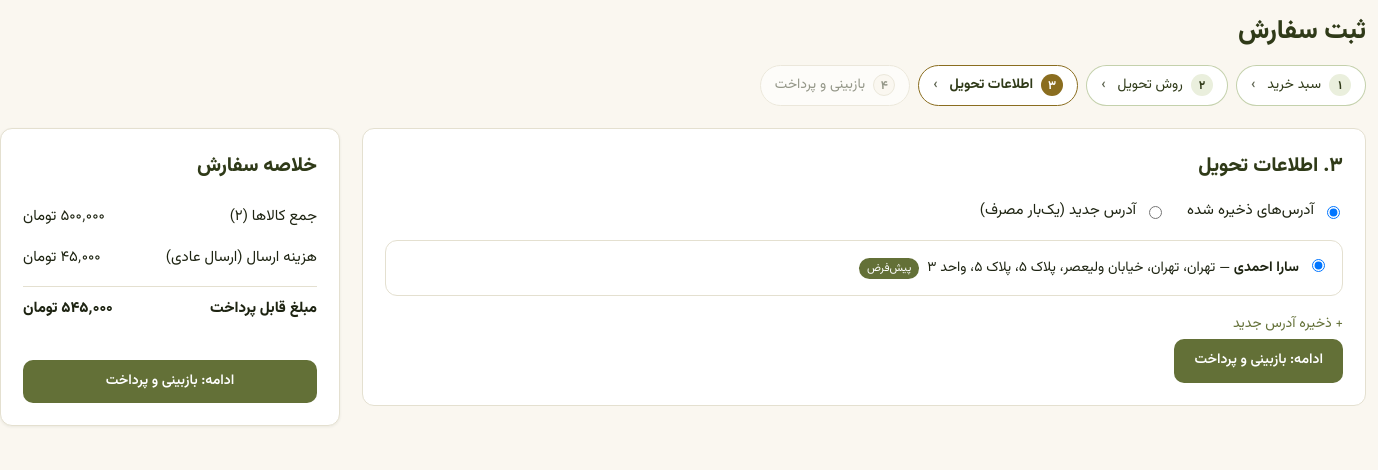
Test: mobile checkout steps (Task 2) › lets completed steps be clicked on the stepper to navigate back
Expected: the heading "۳. اطلاعات تحویل" is shown, [1198,150,1343,182]
Click the link "۲ روش تحویل". click: [1165, 85]
box: [1118,72,1213,99]
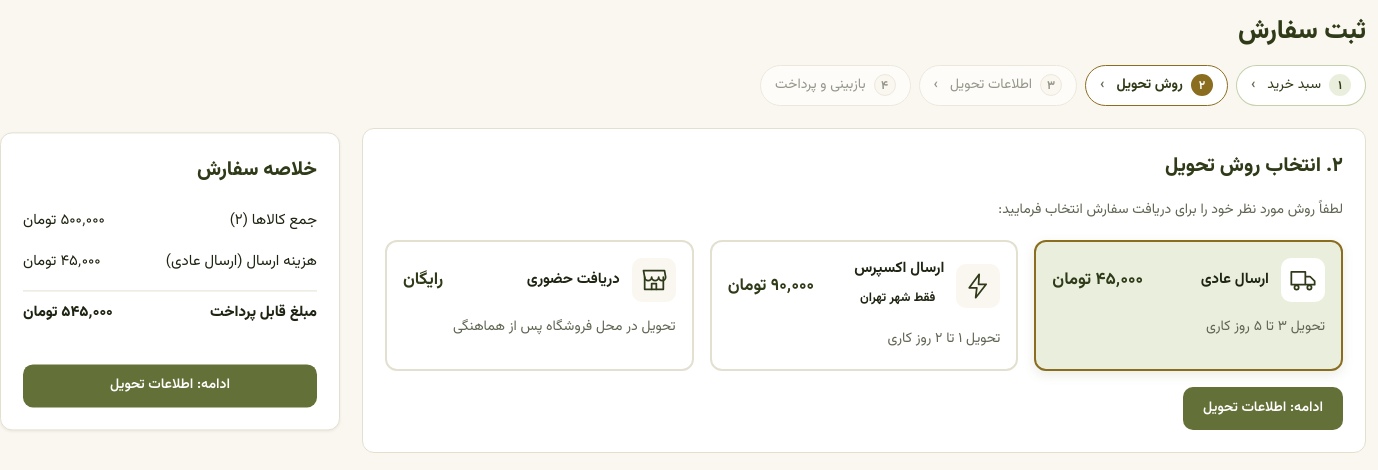
Expected: the heading "۲. انتخاب روش تحویل" is shown, [1165,150,1343,182]
